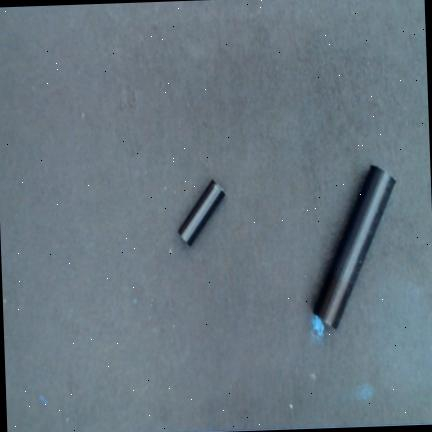Cilindro: (315, 165, 396, 330), (179, 179, 225, 247)
